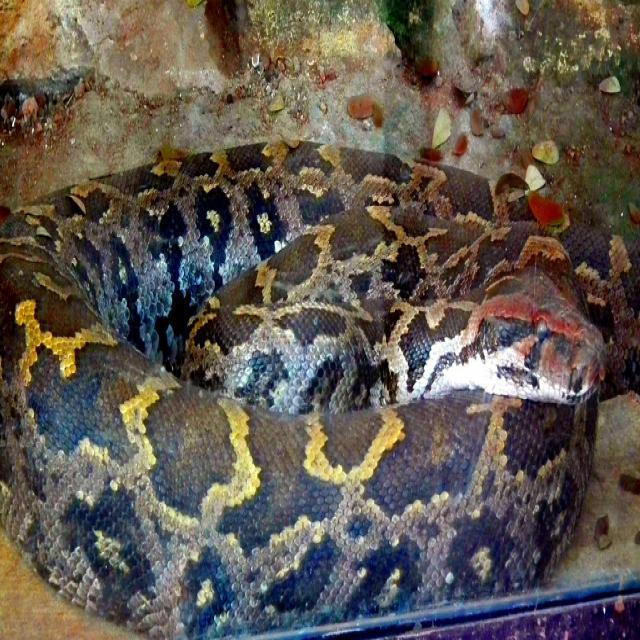Snake: (1, 138, 634, 636)
